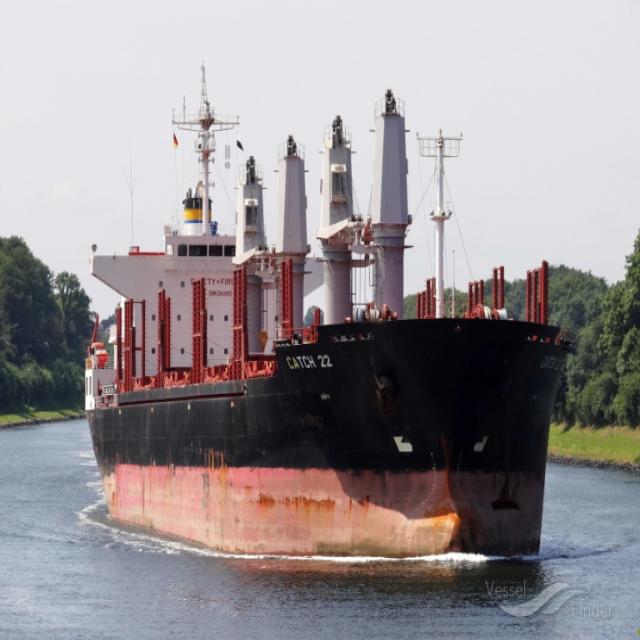Bulk Carrier: (84, 110, 565, 554)
